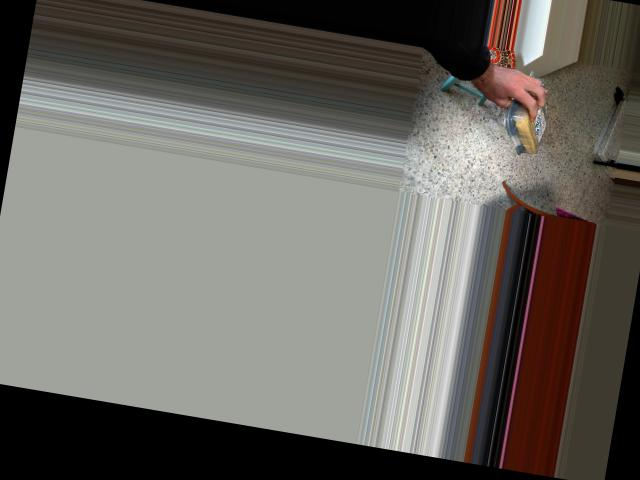cheese: (498, 78, 557, 161)
